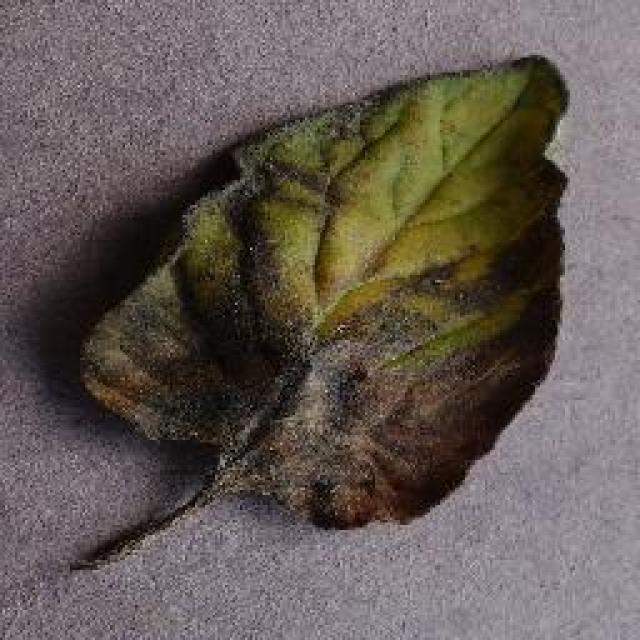Tomato Late Blight: (125, 115, 542, 590)
